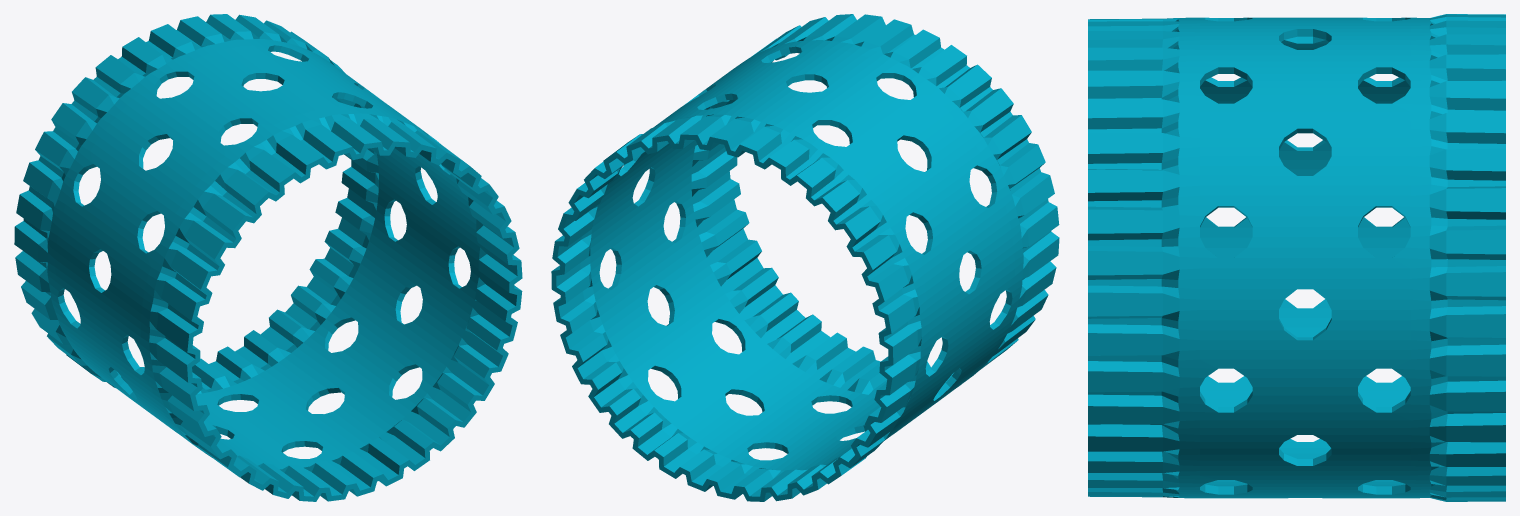
The picture shows the model from 3 angles, left to right: view 1: azimuth 30°, elevation 25°; view 2: azimuth 150°, elevation 25°; view 3: azimuth 270°, elevation 25°; orthographic projection. The views are drawn at different scales.
Visible parts, largest first — view 1: 669; view 2: 669; view 3: 669.
Boxes of the visible parts, x1,y1,x2,y2 form: 669: (14, 14, 522, 501); 669: (551, 14, 1059, 501); 669: (1088, 14, 1505, 501).
Bounding box in the file's own units: 1483 × 1483 × 1270.
